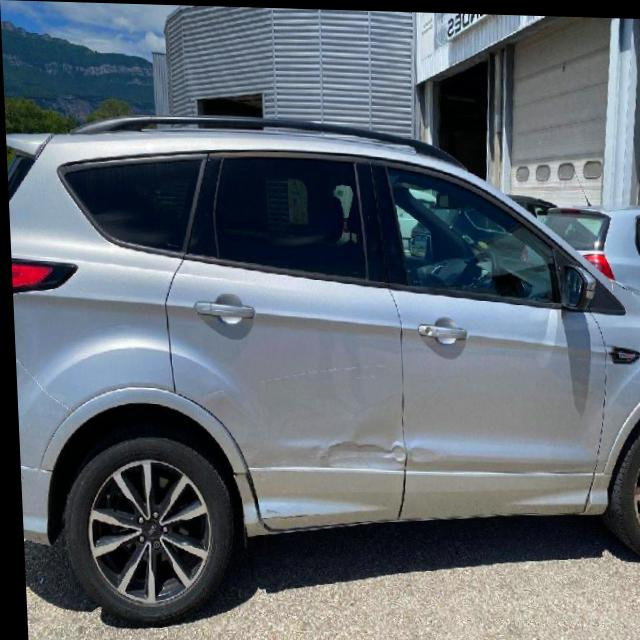porte-avant: (367, 155, 612, 526)
